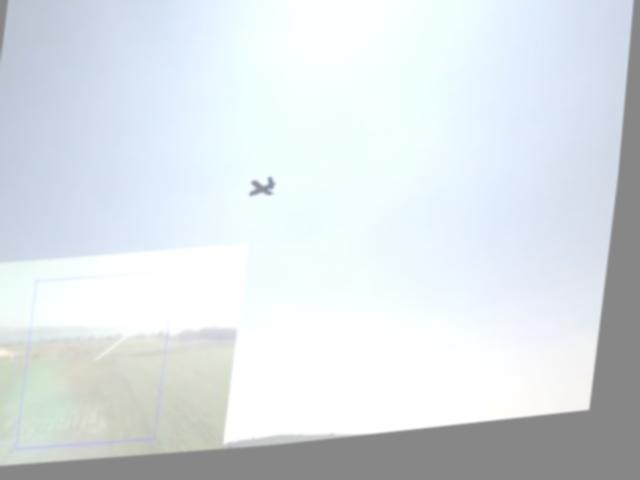uav: (250, 177, 285, 209)
